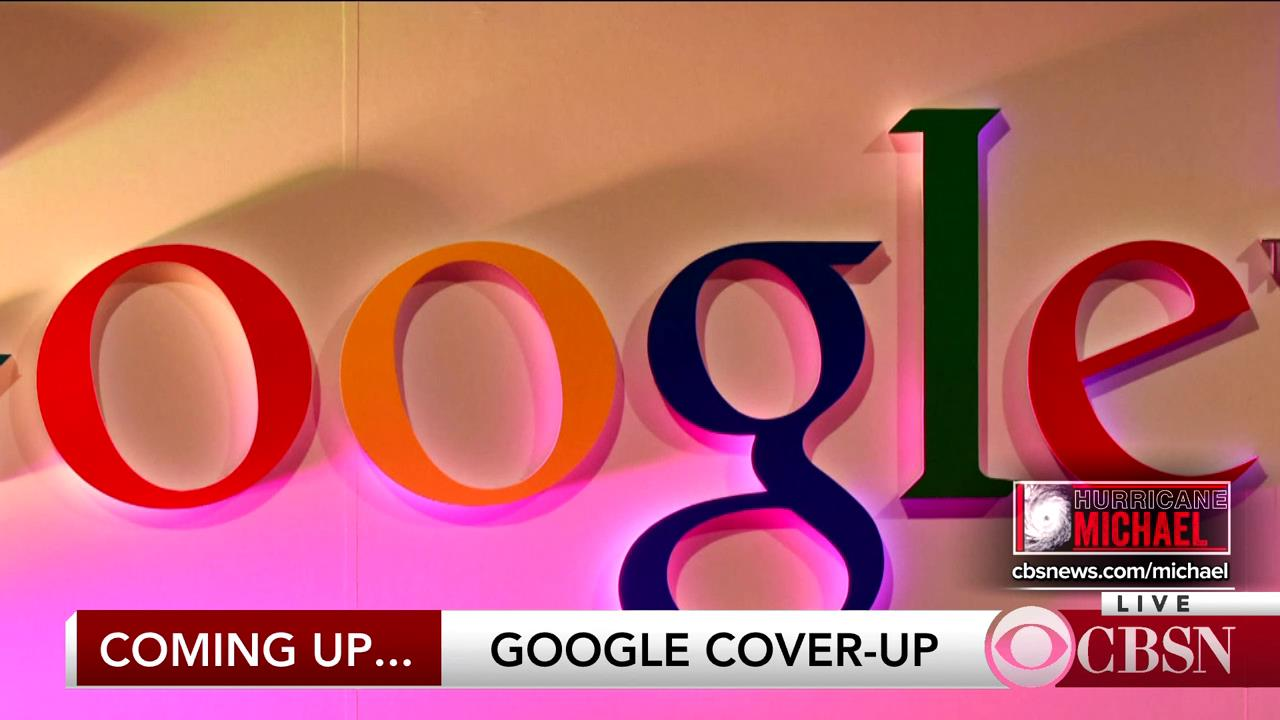CBSN: (1076, 624, 1236, 676)
COMING UP ...: (98, 627, 412, 674)
GOOGLE COVER-UP: (490, 629, 942, 671)
HURRICANE: (1075, 489, 1227, 512)
LIVE: (1115, 590, 1193, 613)
MICHAEL: (1073, 510, 1206, 548)
cbsnews.com/michael: (1010, 560, 1230, 580)
oogle: (32, 111, 1272, 611)
